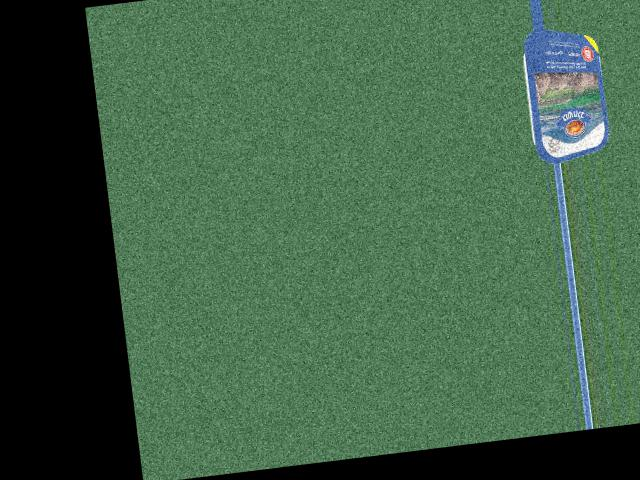cheese: (512, 36, 614, 157)
